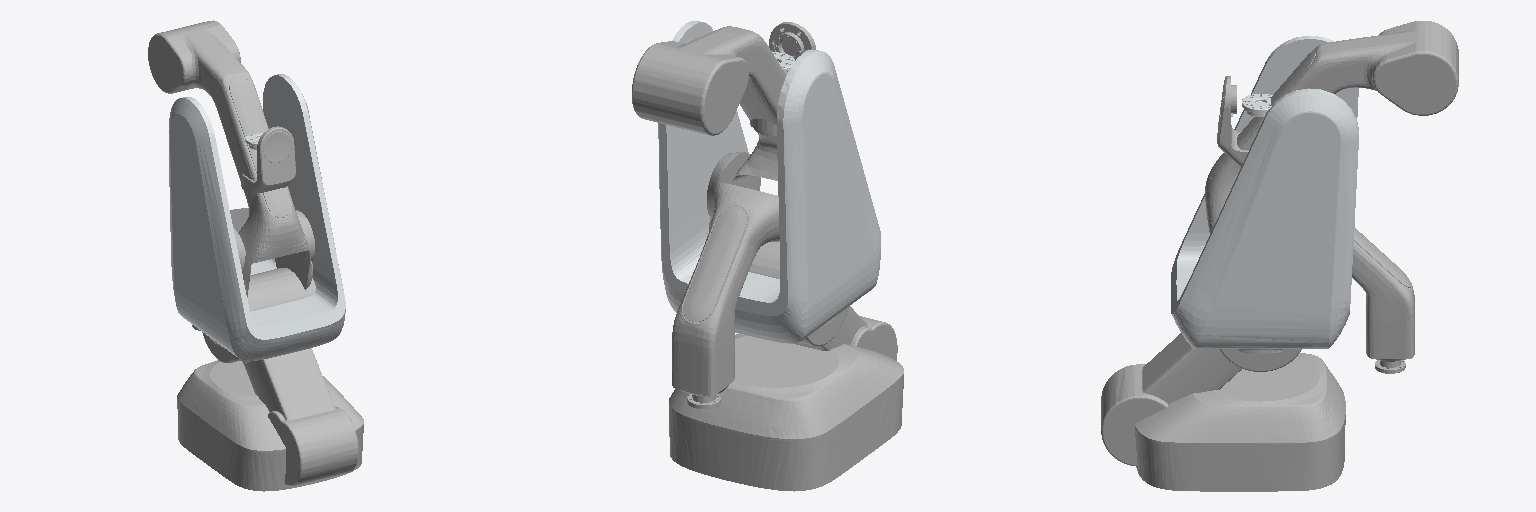
URDF robot description (v71_v1):
<?xml version="1.0" encoding="utf-8"?>
<!-- This URDF was automatically created by SolidWorks to URDF Exporter! Originally created by [author] ([email redacted]) 
     Commit Version: 1.6.0-1-g15f4949  Build Version: 1.6.7594.29634
     For more information, please see http://wiki.ros.org/sw_urdf_exporter -->
<robot
  name="v71_v1">
  <link
    name="base_link">
    <inertial>
      <origin
        xyz="1.37352047471449E-06 -0.0253250353768743 -0.0835743312941882"
        rpy="0 0 0" />
      <mass
        value="17.8231752123914" />
      <inertia
        ixx="0.119710210297738"
        ixy="-3.14492309417168E-06"
        ixz="-6.74573383336699E-07"
        iyy="0.0839896976645685"
        iyz="-0.00293085059302581"
        izz="0.163798975550701" />
    </inertial>
    <visual>
      <origin
        xyz="0 0 0"
        rpy="0 0 0" />
      <geometry>
        <mesh
          filename="package://v75_f/meshes/base_link.STL" />
      </geometry>
      <material
        name="">
        <color
          rgba="0.752941176470588 0.752941176470588 0.752941176470588 1" />
      </material>
    </visual>
    <collision>
      <origin
        xyz="0 0 0"
        rpy="0 0 0" />
      <geometry>
        <mesh
          filename="package://v75_f/meshes/base_link.STL" />
      </geometry>
    </collision>
  </link>
  <link
    name="1_Link">
    <inertial>
      <origin
        xyz="-2.2764e-07 -3.5431e-04 0.0166"
        rpy="0 0 0" />
      <mass
        value="8.9444062e-02" />
      <inertia
        ixx=" 0.7025e-04"
        ixy="   -0.0000e-04"
        ixz="    0.0000e-04"
        iyy="    0.3549e-04"
        iyz="   -0.0135e-04"
        izz="    0.5850e-04"/>
    </inertial>
    <visual>
      <origin
        xyz="0 0 0"
        rpy="0 0 0" />
      <geometry>
        <mesh
          filename="package://v75_f/meshes/1_Link.STL" />
      </geometry>
      <material
        name="">
        <color
          rgba="0.89804 0.91765 0.92941 1" />
      </material>
    </visual>
    <collision>
      <origin
        xyz="0 0 0"
        rpy="0 0 0" />
      <geometry>
        <mesh
          filename="package://v75_f/meshes/1_Link.STL" />
      </geometry>
    </collision>
  </link>
  <joint
    name="J1"
    type="revolute">
    <origin
      xyz="0 0 0.04705"
      rpy="0 0 0" />
    <parent
      link="base_link" />
    <child
      link="1_Link" />
    <axis
      xyz="0 0 1" />
    <limit
      lower="0"
      upper="0"
      effort="0"
      velocity="0" />
    <mimic
      joint="J1"
      multiplier="1"
      offset="0" />
  </joint>
  <link
    name="2_Link">
    <inertial>
      <origin
        xyz="0   -0.000147    0.0275"
        rpy="0 0 0" />
      <mass
        value="4.1846568e-01" />
      <inertia
        ixx=" 0.3696e-03"
        ixy="         0e-03"
        ixz="   -0.0000e-03"
        iyy="    0.3599e-03"
        iyz="    0.0205e-03"
        izz="    0.0742e-03"/>
    </inertial>
    <visual>
      <origin
        xyz="0 0 0"
        rpy="0 0 0" />
      <geometry>
        <mesh
          filename="package://v75_f/meshes/2_Link.STL" />
      </geometry>
      <material
        name="">
        <color
          rgba="0.75294 0.75294 0.75294 1" />
      </material>
    </visual>
    <collision>
      <origin
        xyz="0 0 0"
        rpy="0 0 0" />
      <geometry>
        <mesh
          filename="package://v75_f/meshes/2_Link.STL" />
      </geometry>
    </collision>
  </link>
  <joint
    name="J2"
    type="revolute">
    <origin
      xyz="0 0 0.041"
      rpy="0 0 0" />
    <parent
      link="1_Link" />
    <child
      link="2_Link" />
    <axis
      xyz="0 1 0" />
    <limit
      lower="0"
      upper="0"
      effort="0"
      velocity="0" />
    <mimic
      joint="J2"
      multiplier="1"
      offset="0" />
  </joint>
  <link
    name="3_Link">
    <inertial>
      <origin
        xyz=" -0.0000   -0.00035    0.0166"
        rpy="0 0 0" />
      <mass
        value="8.9444062e-02" />
      <inertia
        ixx="0.7025e-04"
        ixy="   -0.0000e-04"
        ixz="    0.0000e-04"
        iyy="    0.3549e-04"
        iyz="   -0.0135e-04"
        izz="    0.5850e-04" />
    </inertial>
    <visual>
      <origin
        xyz="0 0 0"
        rpy="0 0 0" />
      <geometry>
        <mesh
          filename="package://v75_f/meshes/3_Link.STL" />
      </geometry>
      <material
        name="">
        <color
          rgba="0.75294 0.75294 0.75294 1" />
      </material>
    </visual>
    <collision>
      <origin
        xyz="0 0 0"
        rpy="0 0 0" />
      <geometry>
        <mesh
          filename="package://v75_f/meshes/3_Link.STL" />
      </geometry>
    </collision>
  </link>
  <joint
    name="J3"
    type="revolute">
    <origin
      xyz="0 0 0.07455"
      rpy="0 0 0" />
    <parent
      link="2_Link" />
    <child
      link="3_Link" />
    <axis
      xyz="0 0 1" />
    <limit
      lower="0"
      upper="0"
      effort="0"
      velocity="0" />
    <mimic
      joint="J3"
      multiplier="1"
      offset="0" />
  </joint>
  <link
    name="4_Link">
    <inertial>
      <origin
        xyz="0   -0.000147    0.0275"
        rpy="0 0 0" />
      <mass
        value="4.1846568e-01" />
      <inertia
        ixx=" 0.3696e-03"
        ixy="          0e-03"
        ixz="    -0.0000e-03"
        iyy="     0.3599e-03"
        iyz="     0.0205e-03"
        izz="     0.0742e-03"    />
    </inertial>
    <visual>
      <origin
        xyz="0 0 0"
        rpy="0 0 0" />
      <geometry>
        <mesh
          filename="package://v75_f/meshes/4_Link.STL" />
      </geometry>
      <material
        name="">
        <color
          rgba="0.75294 0.75294 0.75294 1" />
      </material>
    </visual>
    <collision>
      <origin
        xyz="0 0 0"
        rpy="0 0 0" />
      <geometry>
        <mesh
          filename="package://v75_f/meshes/4_Link.STL" />
      </geometry>
    </collision>
  </link>
  <joint
    name="J4"
    type="revolute">
    <origin
      xyz="0 0 0.041"
      rpy="0 0 0" />
    <parent
      link="3_Link" />
    <child
      link="4_Link" />
    <axis
      xyz="0 1 0" />
    <limit
      lower="0"
      upper="0"
      effort="0"
      velocity="0" />
    <mimic
      joint="J4"
      multiplier="1"
      offset="0" />
  </joint>
  <link
    name="5_Link">
    <inertial>
      <origin
        xyz="-0.0000   -0.0003543    0.0166"
        rpy="0 0 0" />
      <mass
        value="8.9444062e-02" />
      <inertia
        ixx=" 0.7025e-04"
        ixy="    -0.0000e-04"
        ixz="     0.0000e-04"
        iyy="     0.3549e-04"
        iyz="    -0.0135e-04"
        izz="     0.5850e-04" />
    </inertial>
    <visual>
      <origin
        xyz="0 0 0"
        rpy="0 0 0" />
      <geometry>
        <mesh
          filename="package://v75_f/meshes/5_Link.STL" />
      </geometry>
      <material
        name="">
        <color
          rgba="0.75294 0.75294 0.75294 1" />
      </material>
    </visual>
    <collision>
      <origin
        xyz="0 0 0"
        rpy="0 0 0" />
      <geometry>
        <mesh
          filename="package://v75_f/meshes/5_Link.STL" />
      </geometry>
    </collision>
  </link>
  <joint
    name="J5"
    type="revolute">
    <origin
      xyz="0 0 0.07455"
      rpy="0 0 0" />
    <parent
      link="4_Link" />
    <child
      link="5_Link" />
    <axis
      xyz="0 0 1" />
    <limit
      lower="0"
      upper="0"
      effort="0"
      velocity="0" />
    <mimic
      joint="J5"
      multiplier="1"
      offset="0" />
  </joint>
  <link
    name="6_Link">
    <inertial>
      <origin
        xyz="0   -0.000147    0.0275"
        rpy="0 0 0" />
      <mass
        value="4.1846568e-01" />
      <inertia
        ixx="0.3696e-03"
        ixy="0e-03"
        ixz="-0.0000e-03"
        iyy="0.3599e-03"
        iyz="0.0205e-03"
        izz="0.0742e-03"/>
    </inertial>
    <visual>
      <origin
        xyz="0 0 0"
        rpy="0 0 0" />
      <geometry>
        <mesh
          filename="package://v75_f/meshes/6_Link.STL" />
      </geometry>
      <material
        name="">
        <color
          rgba="0.752941176470588 0.752941176470588 0.752941176470588 1" />
      </material>
    </visual>
    <collision>
      <origin
        xyz="0 0 0"
        rpy="0 0 0" />
      <geometry>
        <mesh
          filename="package://v75_f/meshes/6_Link.STL" />
      </geometry>
    </collision>
  </link>
  <joint
    name="J6"
    type="revolute">
    <origin
      xyz="0 0 0.041"
      rpy="0 0 0" />
    <parent
      link="5_Link" />
    <child
      link="6_Link" />
    <axis
      xyz="0 1 0" />
    <limit
      lower="0"
      upper="0"
      effort="0"
      velocity="0" />
    <mimic
      joint="J6"
      multiplier="1"
      offset="0" />
  </joint>
  <link
    name="7_Link">
    <inertial>
      <origin
        xyz=" 0     0     0"
        rpy="0 0 0" />
      <mass
        value="0.000" />
      <inertia
        ixx=" 0"
        ixy="     0"
        ixz="     0"
        iyy="     0"
        iyz="     0"
        izz="     0" />
    </inertial>
    <visual>
      <origin
        xyz="0 0 0"
        rpy="0 0 0" />
      <geometry>
        <mesh
          filename="package://v75_f/meshes/7_Link.STL" />
      </geometry>
      <material
        name="">
        <color
          rgba="0.898039215686275 0.917647058823529 0.929411764705882 1" />
      </material>
    </visual>
    <collision>
      <origin
        xyz="0 0 0"
        rpy="0 0 0" />
      <geometry>
        <mesh
          filename="package://v75_f/meshes/7_Link.STL" />
      </geometry>
    </collision>
  </link>
  <joint
    name="J7"
    type="revolute">
    <origin
      xyz="0 0 0.07455"
      rpy="0 0 0" />
    <parent
      link="6_Link" />
    <child
      link="7_Link" />
    <axis
      xyz="0 0 1" />
    <limit
      lower="0"
      upper="0"
      effort="0"
      velocity="0" />
    <mimic
      joint="J7"
      multiplier="1"
      offset="0" />
  </joint>
</robot>

--- Facts derived from the render (not from the file) ---
Views: 3 orthographic renders of the robot side by side, from view 1: azimuth 30°, elevation 25°; view 2: azimuth 150°, elevation 25°; view 3: azimuth 270°, elevation 25°.
Model v71_v1 with 8 links and 7 joints (7 revolute), rooted at base_link, posed all joints at 0.
Visible links, largest first — view 1: 1_Link, 3_Link, 2_Link, base_link, 5_Link, 4_Link; view 2: 1_Link, base_link, 4_Link, 3_Link, 2_Link, 5_Link; view 3: 1_Link, base_link, 3_Link, 2_Link, 4_Link, 5_Link, 7_Link.
Boxes of the visible links, bbox=[...] form: 1_Link: bbox=[169, 74, 345, 360]; 3_Link: bbox=[148, 20, 312, 296]; 2_Link: bbox=[202, 268, 358, 485]; base_link: bbox=[177, 360, 363, 491]; 5_Link: bbox=[241, 126, 295, 195]; 4_Link: bbox=[192, 208, 314, 330]; 1_Link: bbox=[658, 21, 880, 343]; base_link: bbox=[669, 333, 903, 491]; 4_Link: bbox=[672, 152, 779, 408]; 3_Link: bbox=[632, 26, 786, 230]; 2_Link: bbox=[749, 242, 897, 360]; 5_Link: bbox=[750, 22, 815, 135]; 1_Link: bbox=[1171, 36, 1358, 353]; base_link: bbox=[1135, 353, 1345, 491]; 3_Link: bbox=[1205, 21, 1458, 233]; 2_Link: bbox=[1101, 333, 1301, 466]; 4_Link: bbox=[1352, 227, 1414, 373]; 5_Link: bbox=[1217, 76, 1248, 166]; 7_Link: bbox=[1242, 94, 1272, 116].
Bounding box of the posed robot: 0.224 × 0.4831 × 0.6321 m (x, y, z).
Meshes: 8 distinct files referenced, 7 mesh visuals loaded (7 binary STL); not drawn: 1 (reference not matched to a file when rendering).